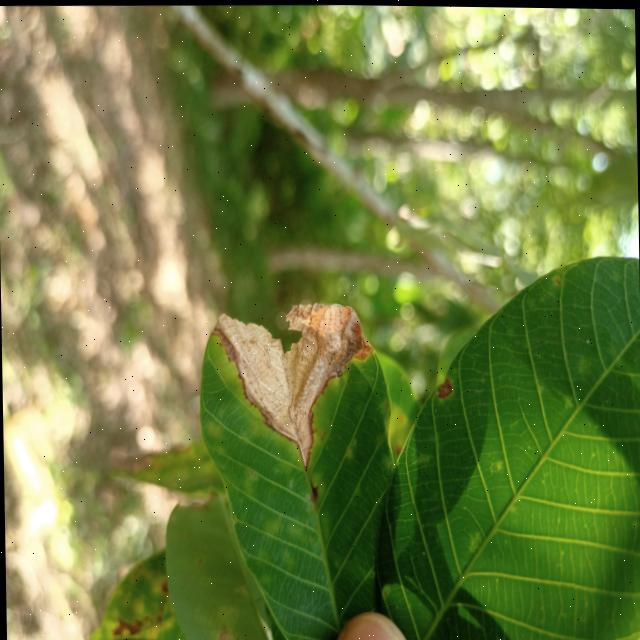Leaf-Blight: (209, 298, 376, 469)
